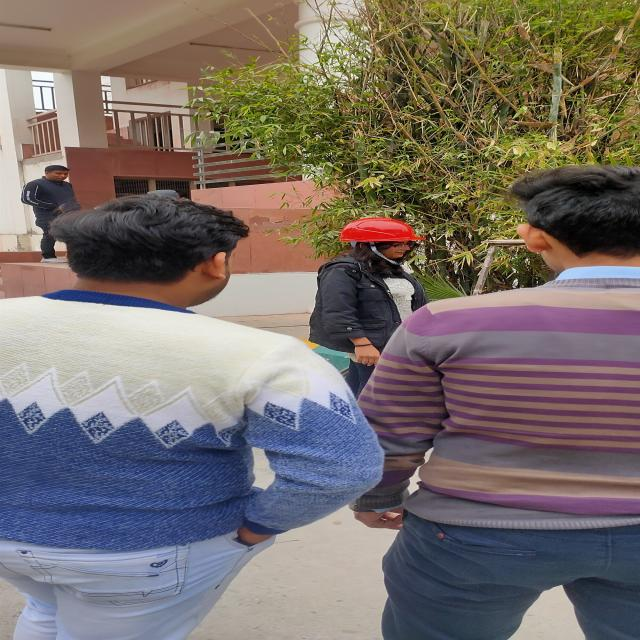no jacket: (308, 217, 439, 364)
unsafe: (3, 192, 385, 640), (369, 165, 640, 640), (21, 164, 83, 265)
